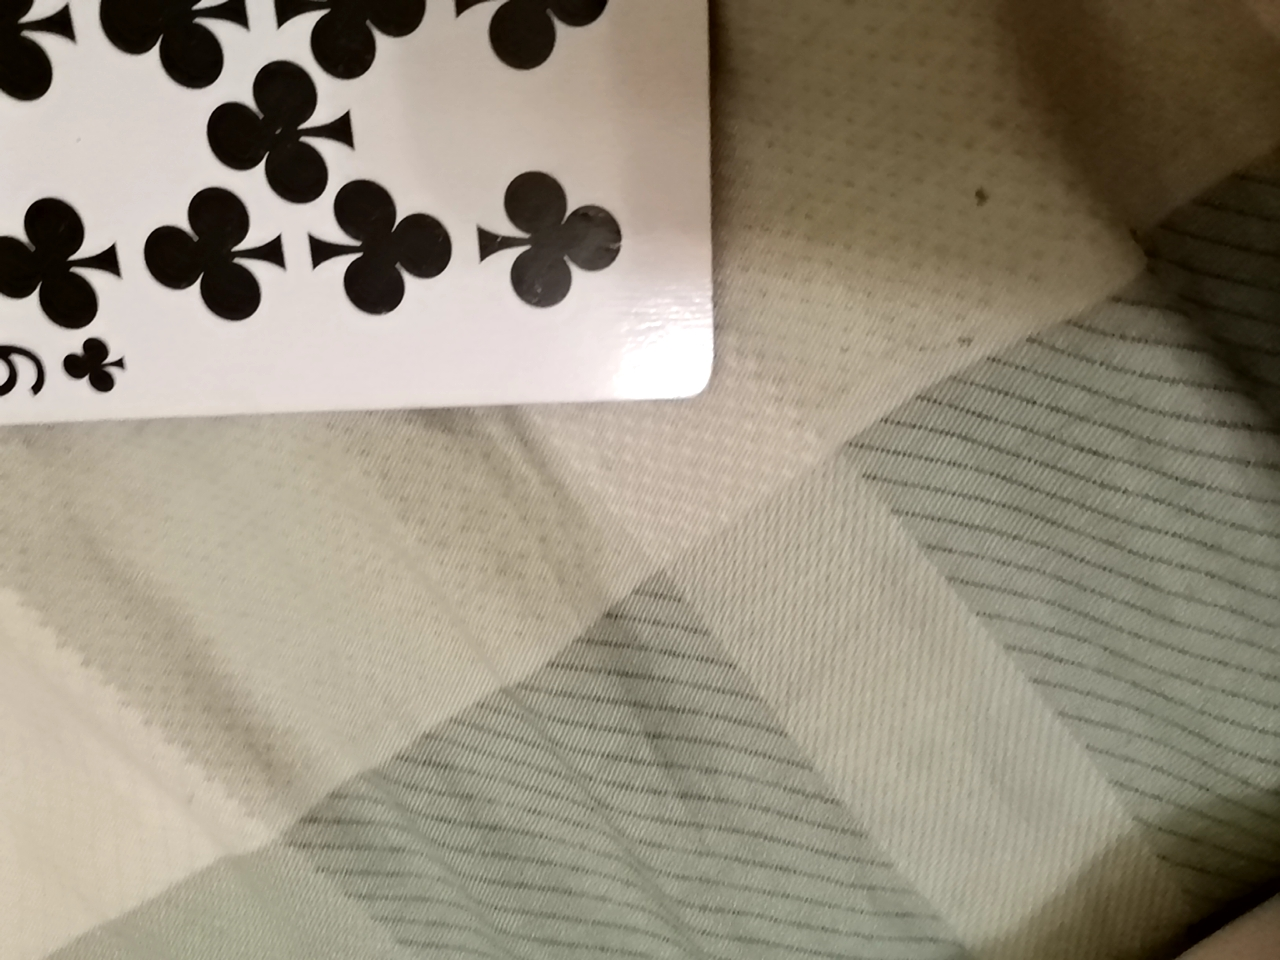mh 9: (4, 0, 719, 432)
